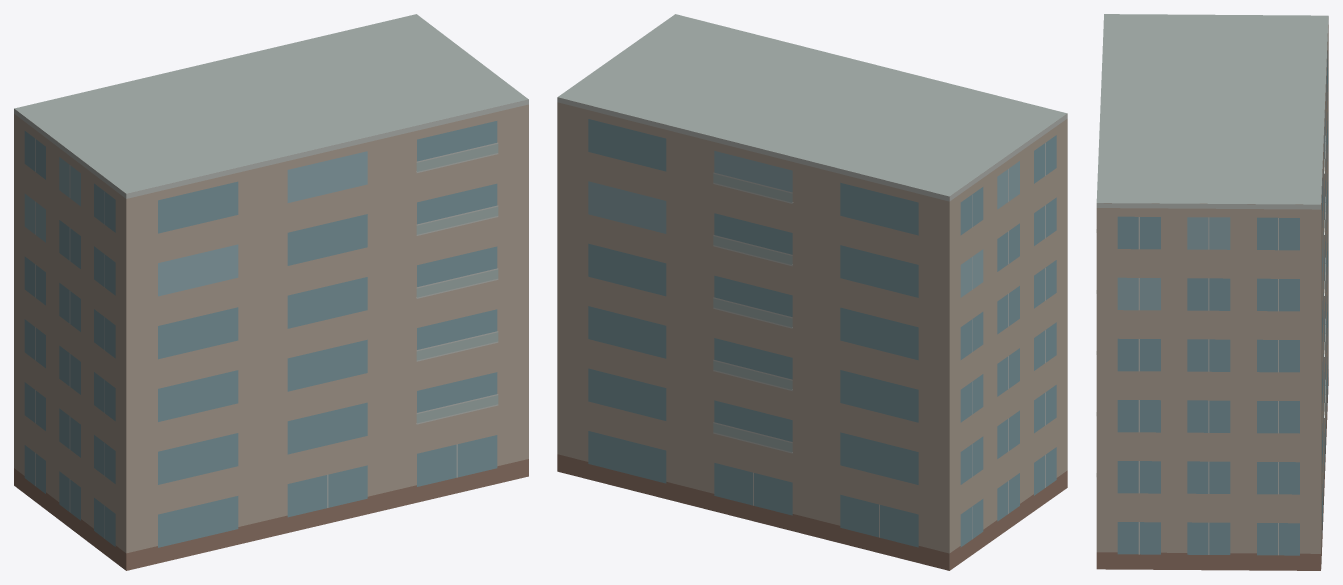
The model's file is survey-upis-33039413.glb.
3 views of the same model, side by side, from view 1: azimuth 30°, elevation 25°; view 2: azimuth 150°, elevation 25°; view 3: azimuth 270°, elevation 25° (orthographic). The views are drawn at different scales.
Visible parts, largest first — view 1: survey-upis-33039413.tmp; view 2: survey-upis-33039413.tmp; view 3: survey-upis-33039413.tmp.
Boxes of the visible parts, left/top/right/bottom form: survey-upis-33039413.tmp: left=14, top=14, right=528, bottom=570; survey-upis-33039413.tmp: left=557, top=14, right=1067, bottom=570; survey-upis-33039413.tmp: left=1096, top=14, right=1328, bottom=570.
Bounding box in the file's own units: 20.09 × 18 × 10.35.
